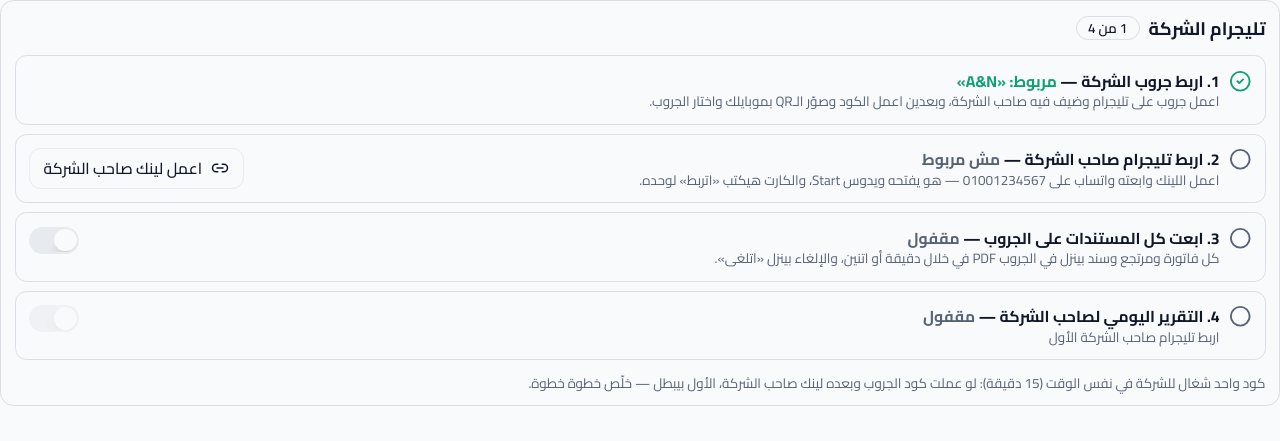
Test case: كارت تليجرام الشركة عند صاحب المنصة — 4 خطوات بعلامة ✓ (owner 2026-11-19) › with the group linked, the documents switch turns on
Click the switch named "ابعت كل المستندات على الجروب" at (54,240), box [29, 226, 78, 254]
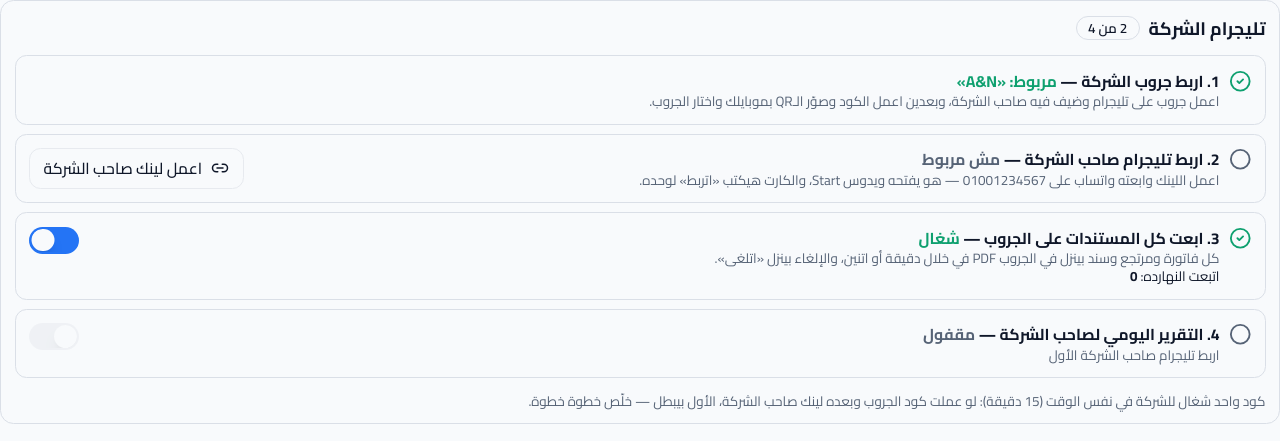
Now the text with test id "tg-setup-progress" reads "2 من 4", box [1076, 16, 1140, 40]
